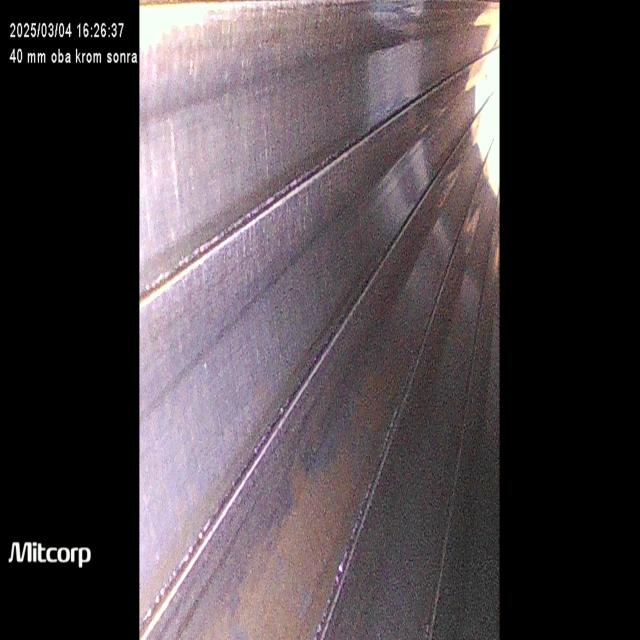hata_4.2: (204, 304, 427, 638)
hata_8.1: (147, 51, 216, 255)
